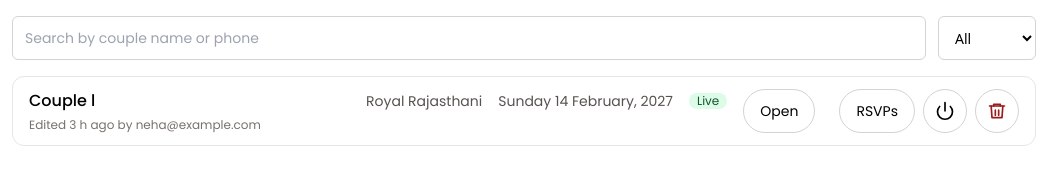
Test case: InvitationList › row actions › takes a row offline and updates its badge
The width and height of the screenshot is (1048, 195).
Click the button named "Take offline: Couple l".
click(945, 111)  # box x1=923 y1=89 x2=967 y2=133
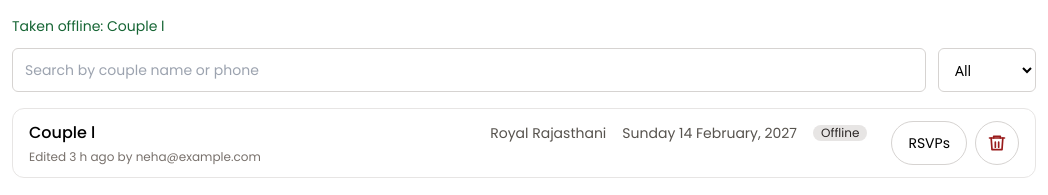
Check: the text "Offline" is shown, box x1=813 y1=125 x2=867 y2=141
